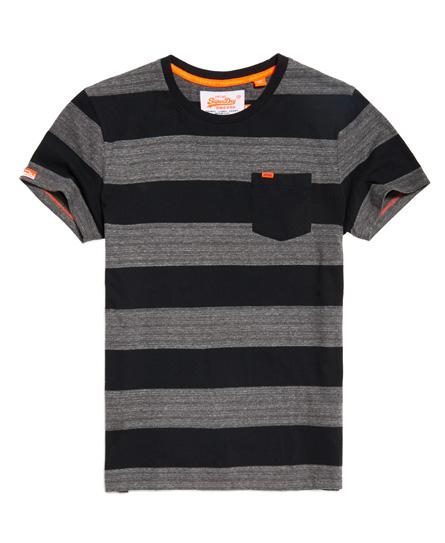teeshirt: (24, 50, 437, 501)
